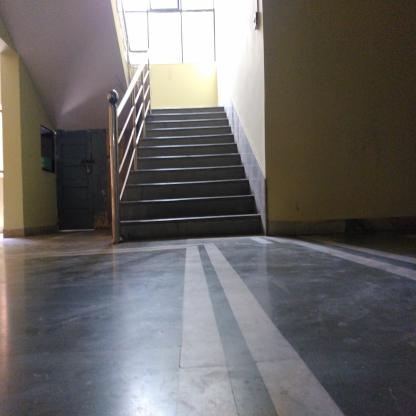stairs: (154, 106, 225, 244)
